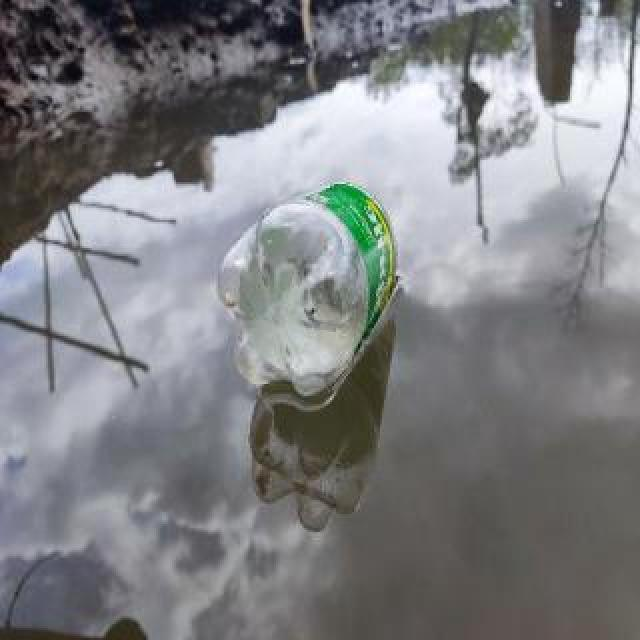Bottle: (210, 170, 408, 408)
